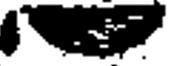Basket: (0, 1, 168, 62)
